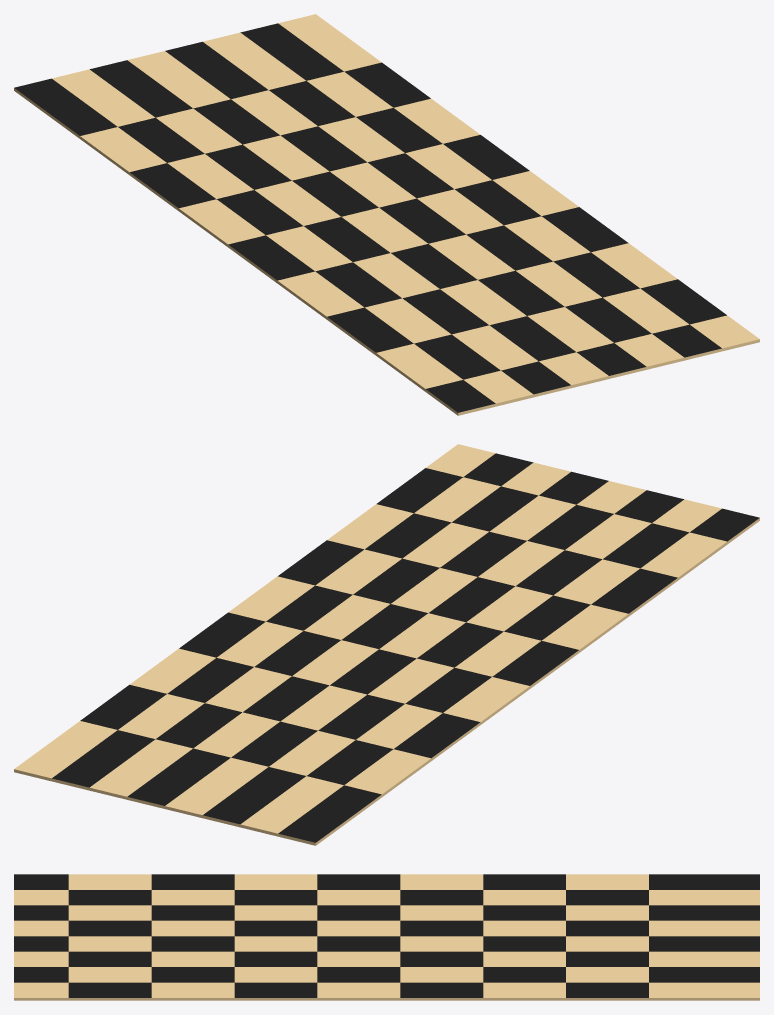
File: EndPlatform.fbx
The picture shows the model from 3 angles, top to bottom: view 1: azimuth 30°, elevation 25°; view 2: azimuth 150°, elevation 25°; view 3: azimuth 270°, elevation 25°; orthographic projection. The views are drawn at different scales.
Visible parts, largest first — view 1: Cube; view 2: Cube; view 3: Cube.
Boxes of the visible parts, x1,y1,x2,y2 form: Cube: [14, 14, 759, 415]; Cube: [14, 444, 759, 845]; Cube: [14, 874, 759, 1000].
Size of the model in its own units: 1200 by 11.52 by 3059.
